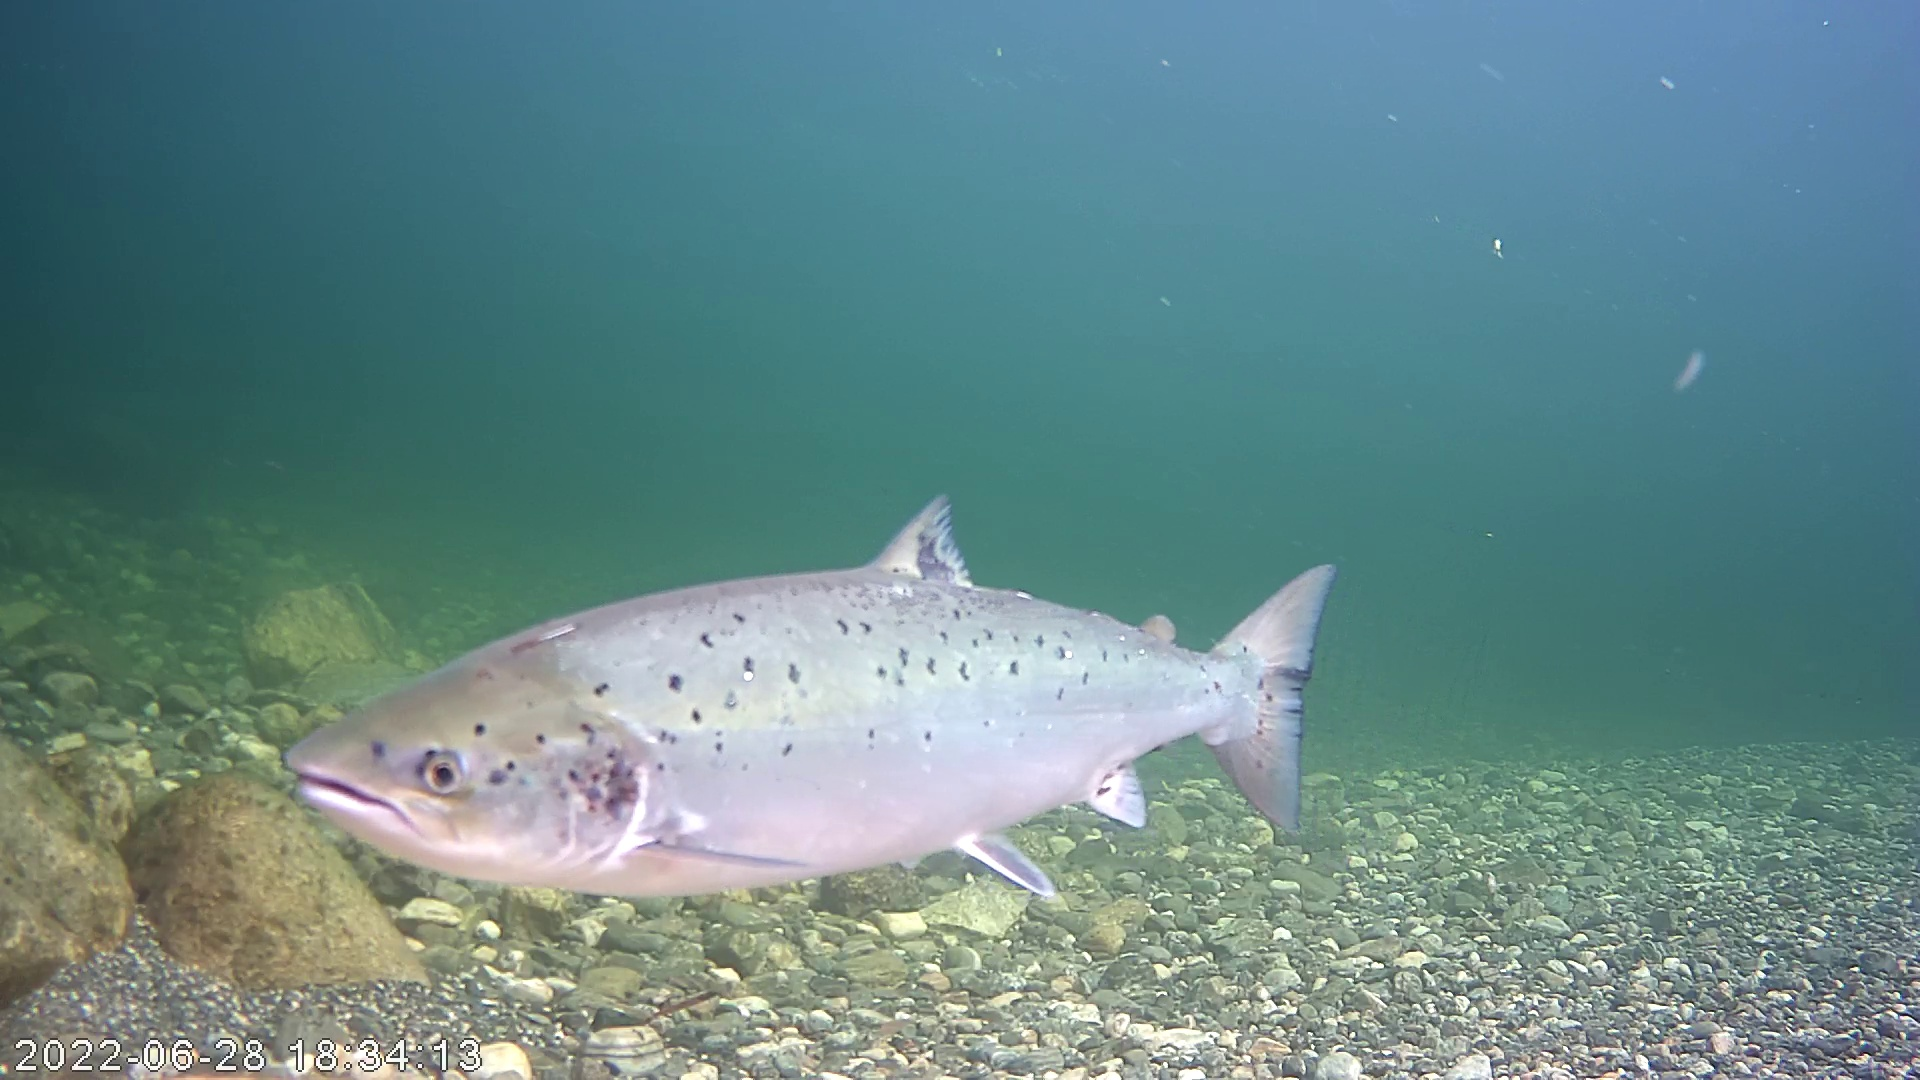salmon: (273, 465, 1354, 866)
